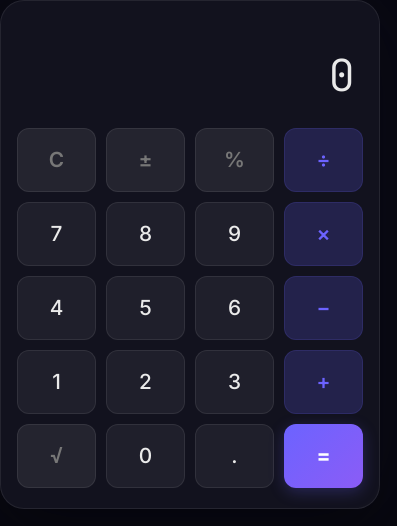
Test: Calculator component › updates display when digits are clicked
Click the button "5": {"x": 146, "y": 308} [106,276,185,340]
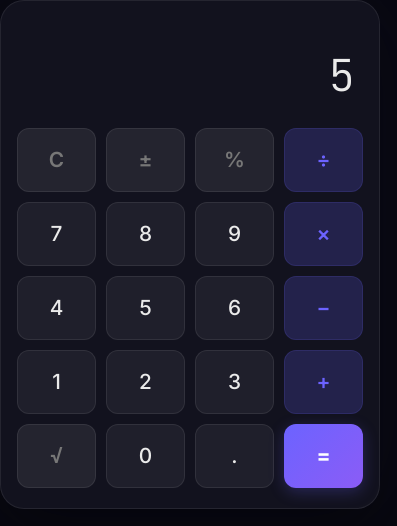
expect the text with id "display-value" reads "5": met, box [329,46,355,104]
Click the button "3": {"x": 234, "y": 382} [195,350,274,414]
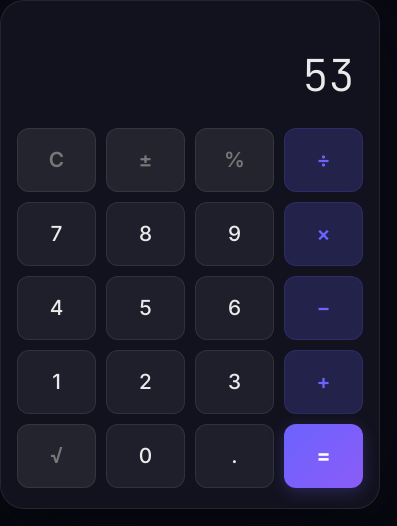
expect the text with id "display-value" reads "53": met, box [302,46,355,104]
